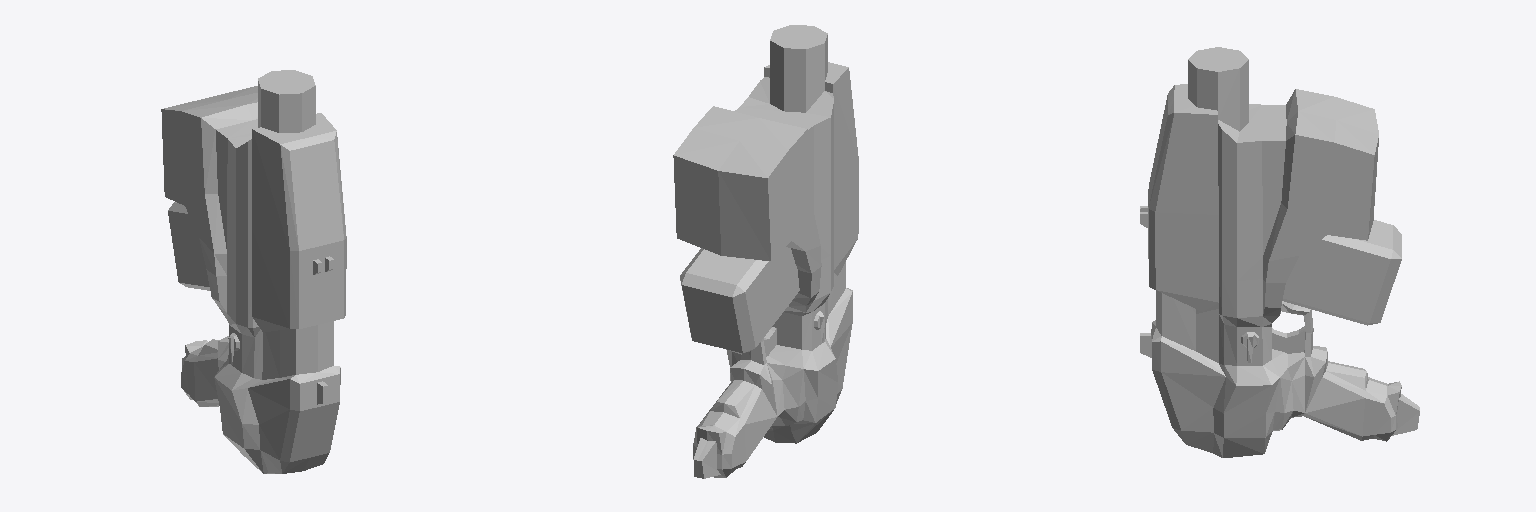
Rendered from light-pistol_mesh.obj.
3 renders of one model, left to right at view 1: azimuth 30°, elevation 25°; view 2: azimuth 150°, elevation 25°; view 3: azimuth 270°, elevation 25°, orthographic.
Visible parts, largest first — view 1: pistol_body, pistol_relaod_shutter, pistol_ammo_clips; view 2: pistol_body, pistol_ammo_clips, pistol_relaod_shutter; view 3: pistol_body, pistol_relaod_shutter, pistol_ammo_clips, pistol_fire_button.
Boxes of the visible parts, x1=… form: pistol_body: x1=161, y1=70, x2=340, y2=473; pistol_relaod_shutter: x1=252, y1=113, x2=346, y2=332; pistol_ammo_clips: x1=168, y1=202, x2=209, y2=290; pistol_body: x1=673, y1=25, x2=852, y2=478; pistol_ammo_clips: x1=680, y1=247, x2=799, y2=352; pistol_relaod_shutter: x1=764, y1=62, x2=858, y2=275; pistol_body: x1=1140, y1=47, x2=1419, y2=457; pistol_relaod_shutter: x1=1140, y1=84, x2=1218, y2=311; pistol_ammo_clips: x1=1283, y1=220, x2=1401, y2=325; pistol_fire_button: x1=1272, y1=326, x2=1305, y2=353.
Bounding box in the file's own units: 0.0702 × 0.2784 × 0.1802.